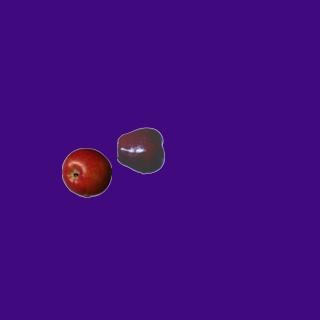Apple Braeburn: (61, 147, 111, 197)
Apple Red Delicious: (116, 125, 166, 175)
